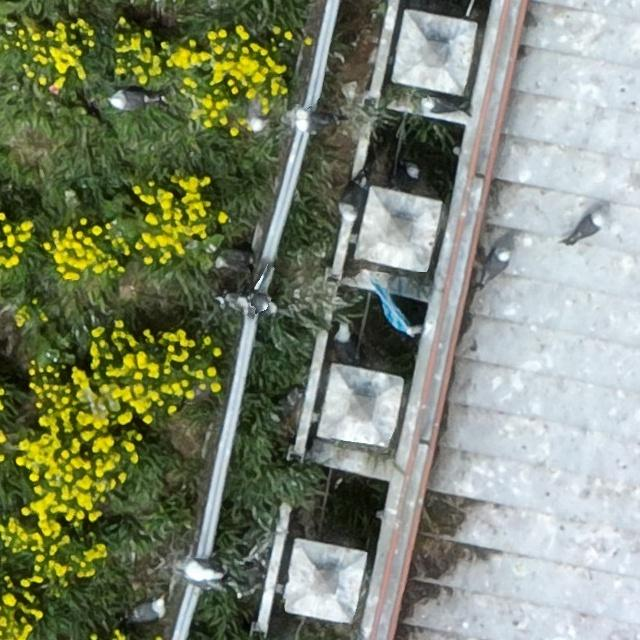umineko: (246, 97, 267, 133), (129, 600, 163, 622), (110, 90, 148, 109), (188, 562, 224, 582), (574, 217, 602, 240), (296, 108, 335, 123), (486, 251, 508, 277), (295, 120, 329, 136), (336, 324, 352, 352), (424, 97, 451, 113), (404, 163, 421, 182)
